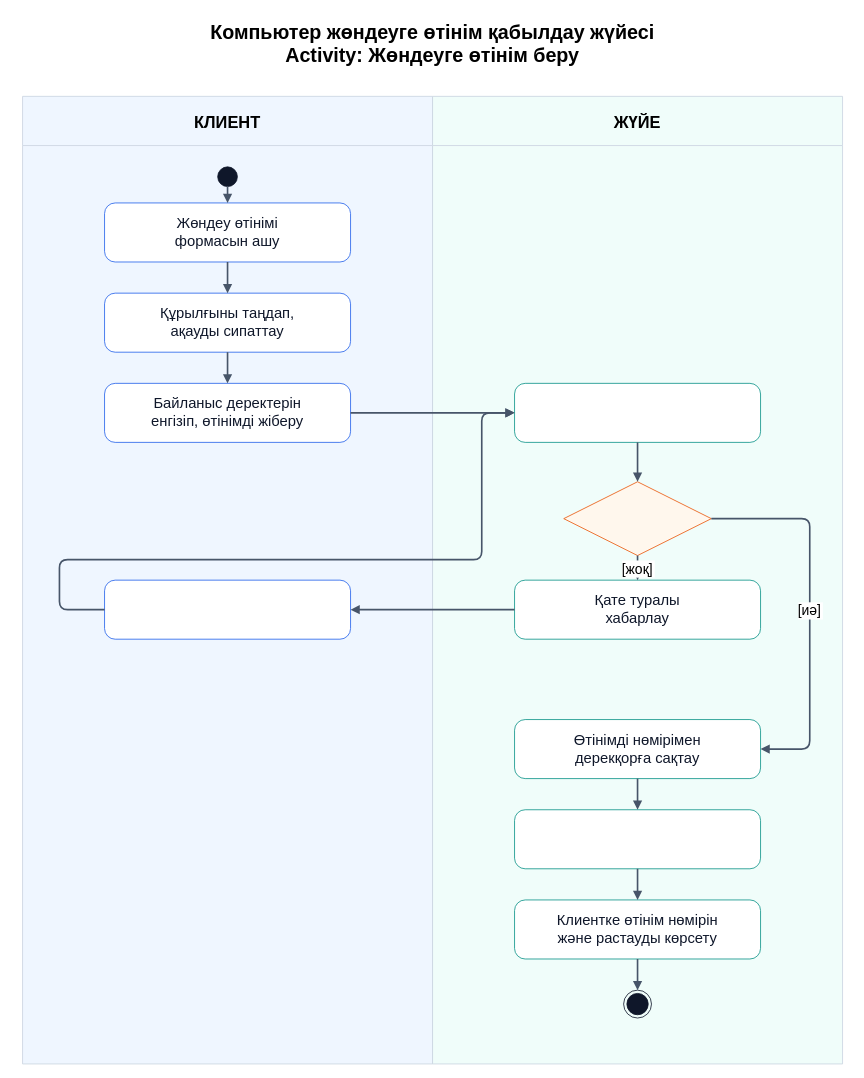
The diagram is 864 pixels wide and 1078 high, and some of its shapes have lost their labels. Here are the shapes that lost their labels. From the top down, the centre of each, then its label:
the point at 637,412: Өтінім деректерін тексеру
the point at 637,518: Деректер дұрыс па?
the point at 227,609: Қате деректерді түзетіп, қайта жіберу
the point at 637,839: Шеберге жаңа өтінім туралы хабарлау
